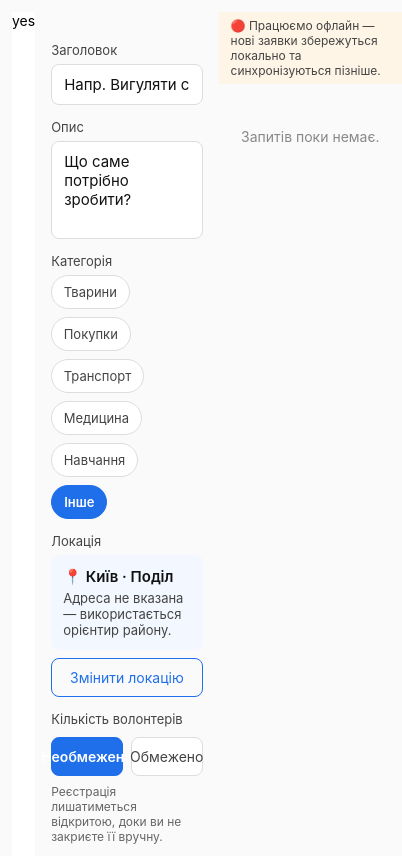
Test: G62: create flow › CreateRequestScreen submit adds an item visible on RequestsListScreen
Expected: the text with test id "hydrated-flag" reads "yes", left=12, top=12, right=35, bottom=29
Expected: the text "Запитів поки немає." is shown, left=235, top=128, right=386, bottom=145
Type "Тестовий запит" into the field with test id "create-request-title".
click(127, 84); type("Тестовий запит")  # box left=51, top=64, right=203, bottom=105
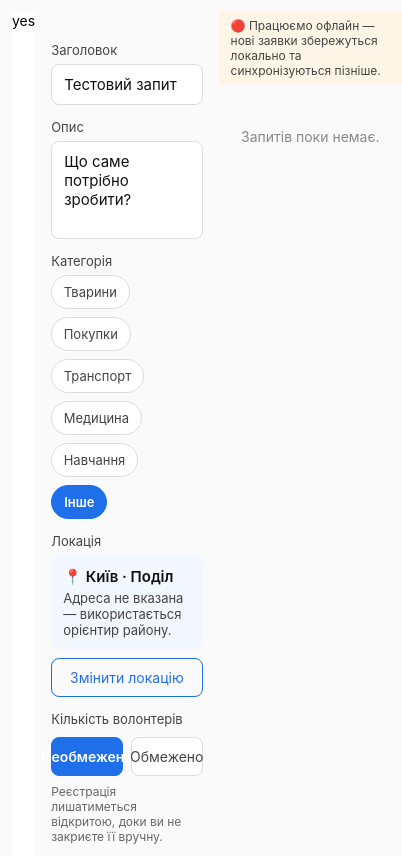
Type "опис тестового запиту" into the text box with test id "create-request-description".
click(127, 190); type("опис тестового запиту")  # box left=51, top=141, right=203, bottom=239
(page scrolled)
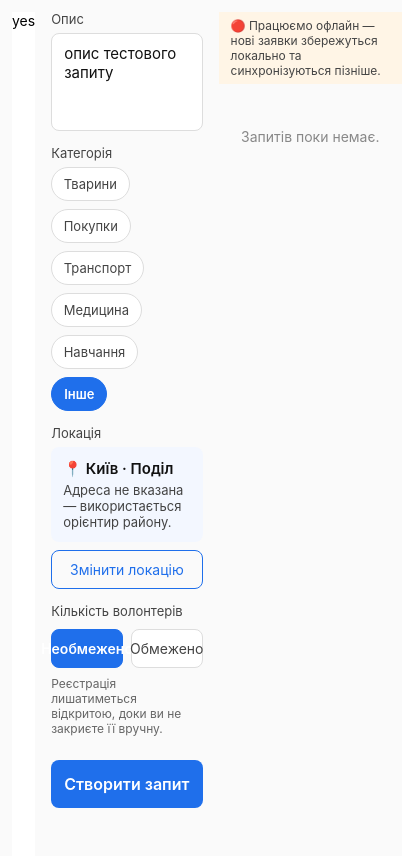
Click the element with test id "create-request-submit".
click(127, 784)  # box left=51, top=760, right=203, bottom=808
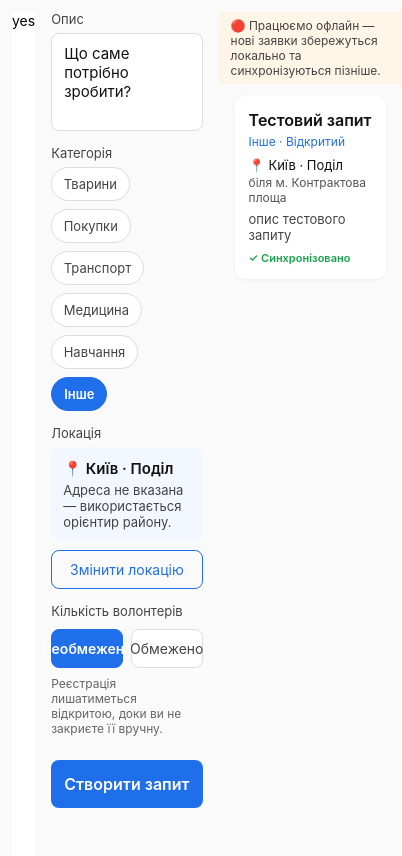
Now the text "Тестовий запит" is shown, box left=249, top=110, right=372, bottom=130
Now the text with test id "requests-list-empty" is gone
